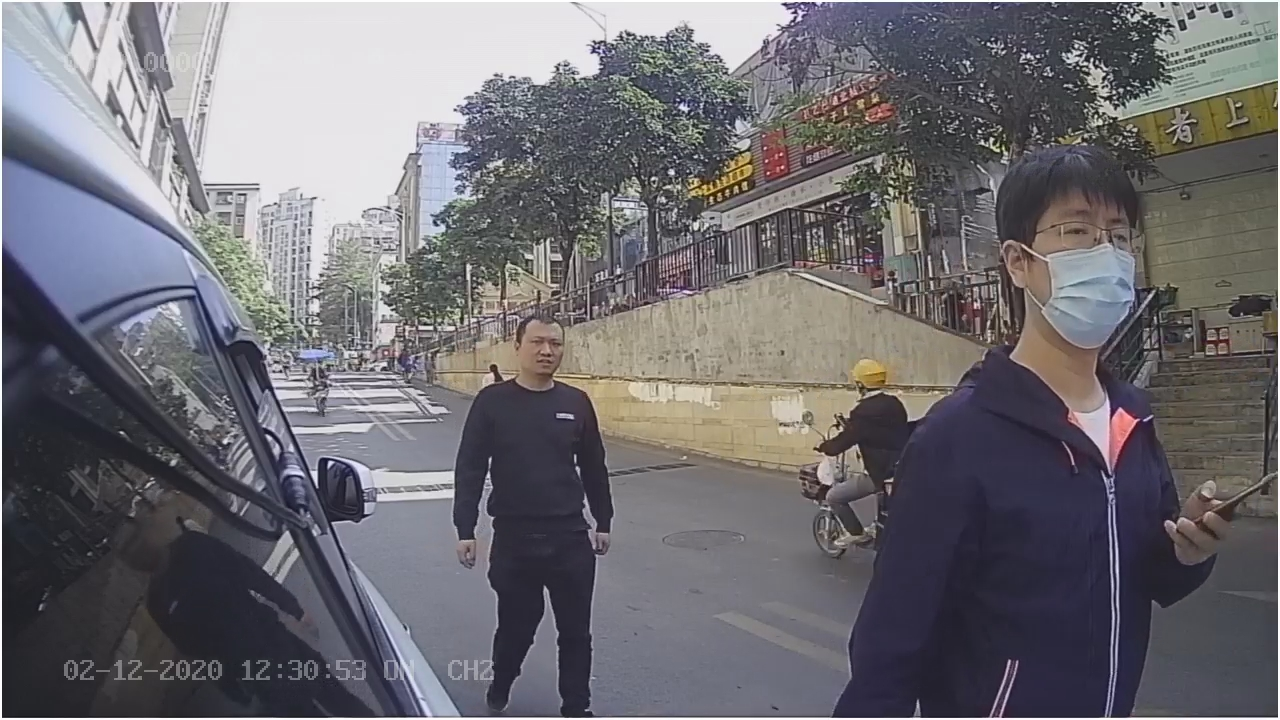person: (878, 137, 1225, 616), (438, 311, 617, 569)
